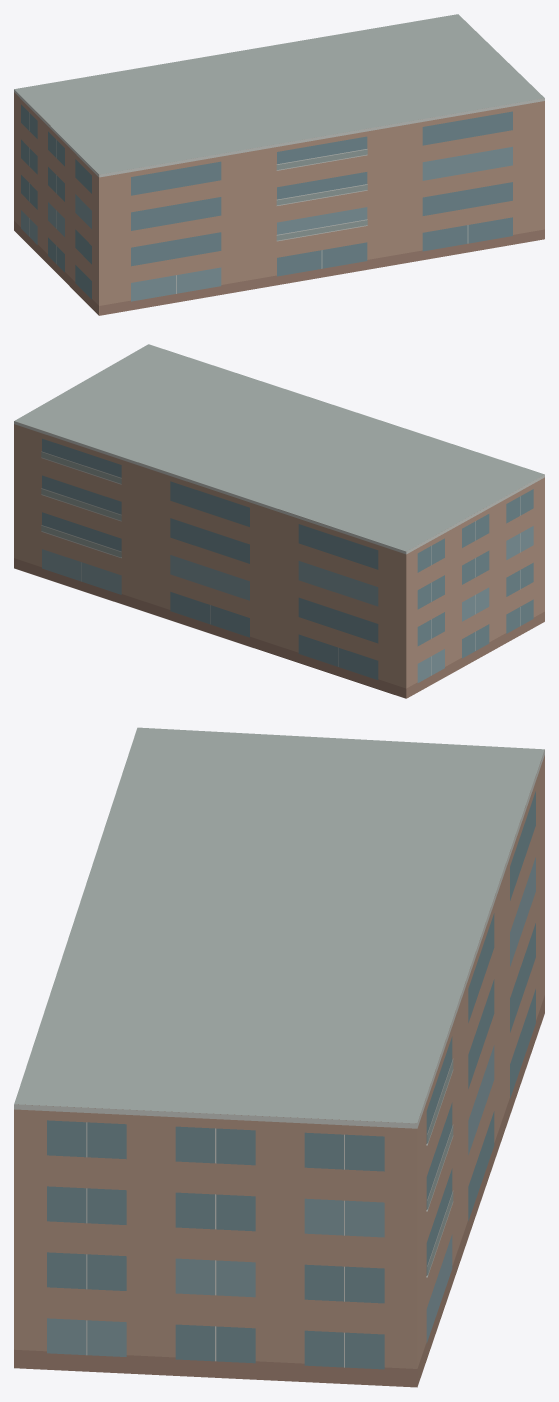
File: survey-upis-32829496.glb
3 views of the same model, one above another, from view 1: azimuth 30°, elevation 25°; view 2: azimuth 150°, elevation 25°; view 3: azimuth 270°, elevation 25° (orthographic). The views are drawn at different scales.
Visible parts, largest first — view 1: survey-upis-32829496.tmp; view 2: survey-upis-32829496.tmp; view 3: survey-upis-32829496.tmp.
Part boxes in pixels (x1,y1,x2,y2): survey-upis-32829496.tmp: [14, 14, 544, 315]; survey-upis-32829496.tmp: [14, 344, 544, 698]; survey-upis-32829496.tmp: [14, 727, 544, 1387].
Size of the model in its own units: 39.43 by 12.25 by 22.34.
